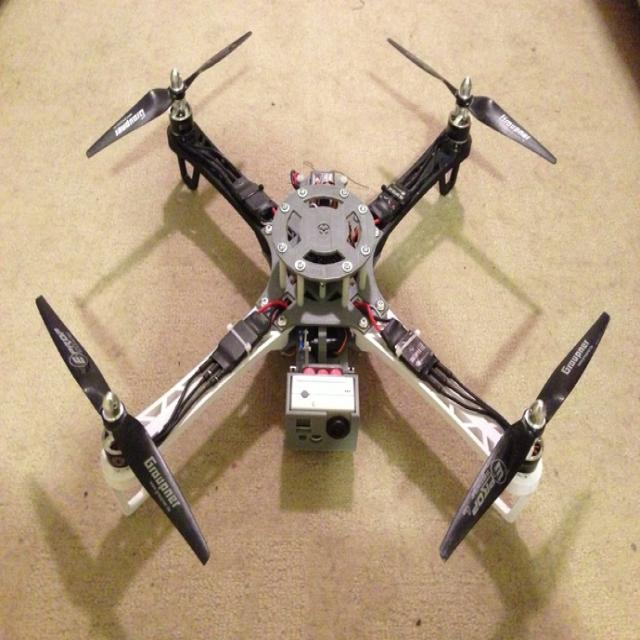drone: (0, 36, 640, 565)
